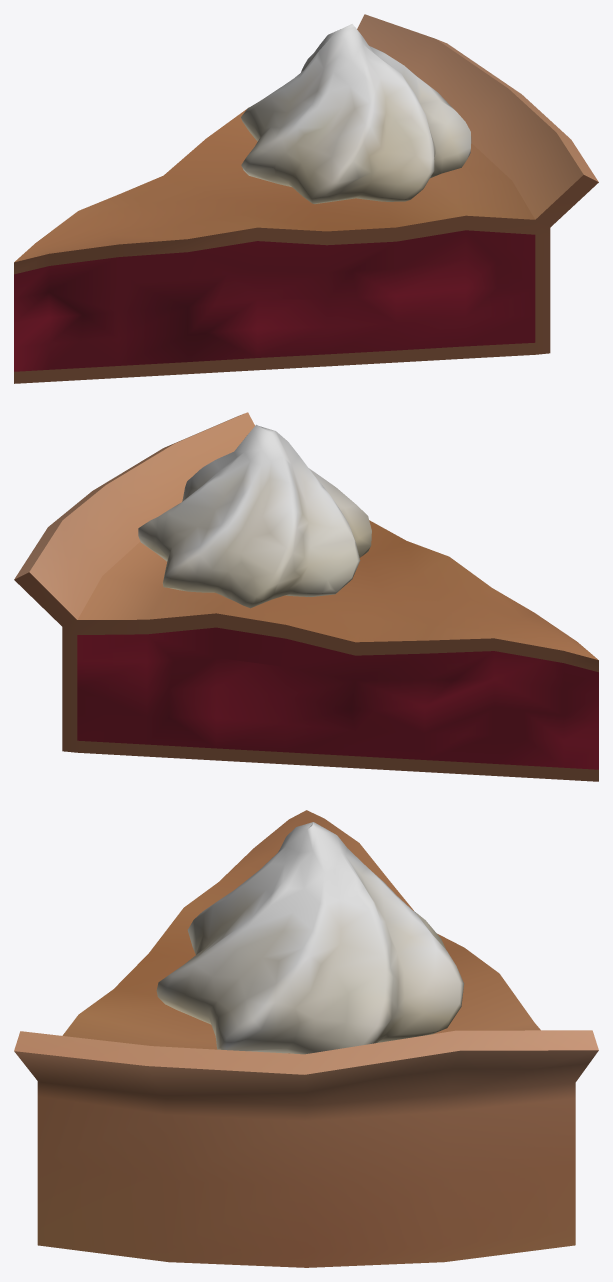
File: Cherry Pie.fbx
3 renders of one model, top to bottom at view 1: azimuth 30°, elevation 25°; view 2: azimuth 150°, elevation 25°; view 3: azimuth 270°, elevation 25°, orthographic. The views are drawn at different scales.
Parts seen in each view (by area): view 1: Cherry Pie; view 2: Cherry Pie; view 3: Cherry Pie.
Part boxes in pixels (<box>): Cherry Pie: <box>14,14,598,383</box>; Cherry Pie: <box>14,412,598,781</box>; Cherry Pie: <box>14,810,598,1267</box>.
Bounding box in the file's own units: 206 × 107 × 157.
